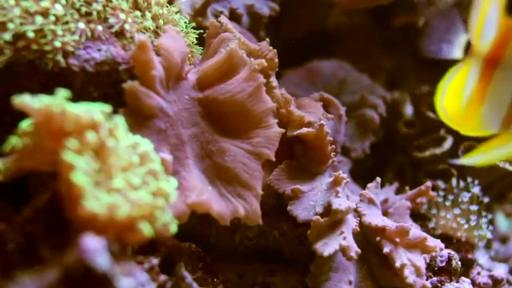Fish: (435, 0, 511, 166), (419, 4, 468, 59)
